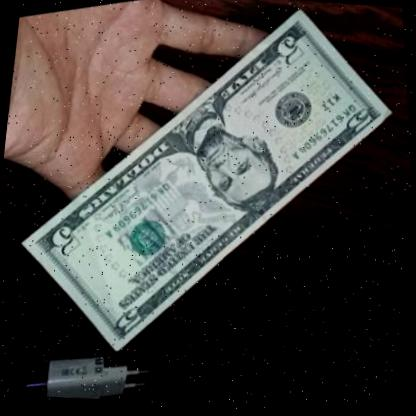five-front: (0, 7, 416, 404)
